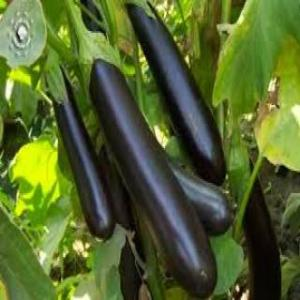eggplant: (89, 58, 217, 299), (46, 58, 114, 238)
